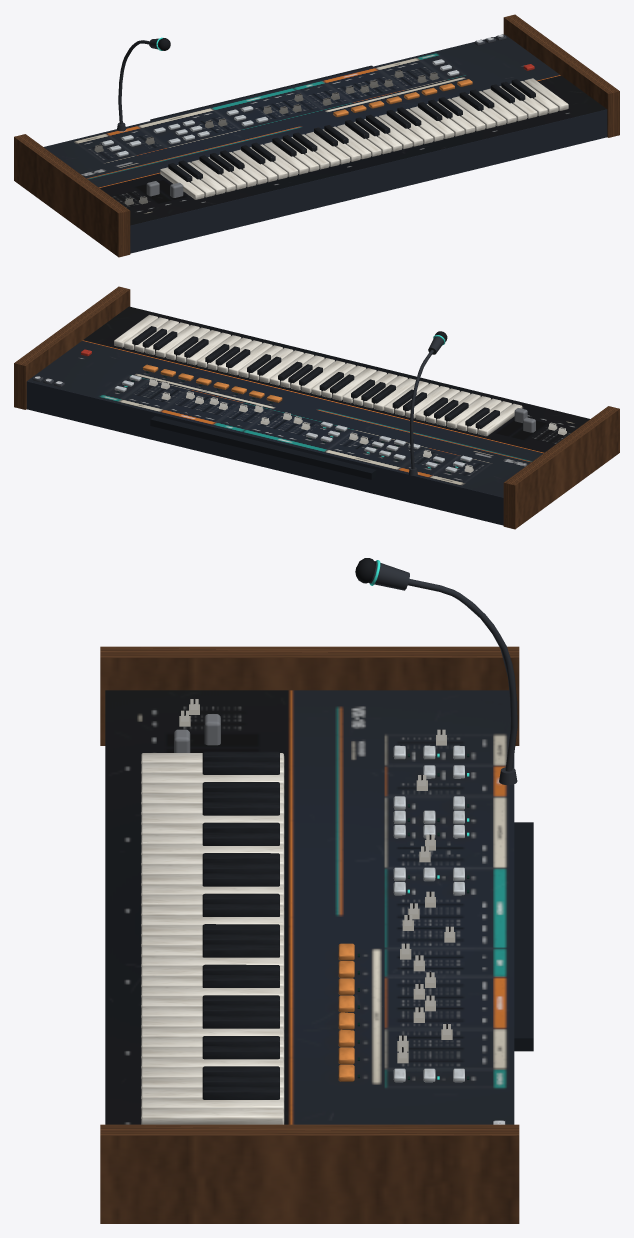
The model's file is vocoder-miniature.glb.
3 renders of one model, top to bottom at view 1: azimuth 30°, elevation 25°; view 2: azimuth 150°, elevation 25°; view 3: azimuth 270°, elevation 25°, orthographic. The views are drawn at different scales.
Parts seen in each view (by area): view 1: vocoder-miniature; view 2: vocoder-miniature; view 3: vocoder-miniature.
Part boxes in pixels (left/top/right/bottom): vocoder-miniature: left=14, top=14, right=619, bottom=257; vocoder-miniature: left=14, top=286, right=619, bottom=529; vocoder-miniature: left=100, top=558, right=533, bottom=1223.
Size of the model in its own units: 1.13 by 0.3083 by 0.424.
Materials: 1 (1 with a texture image).
